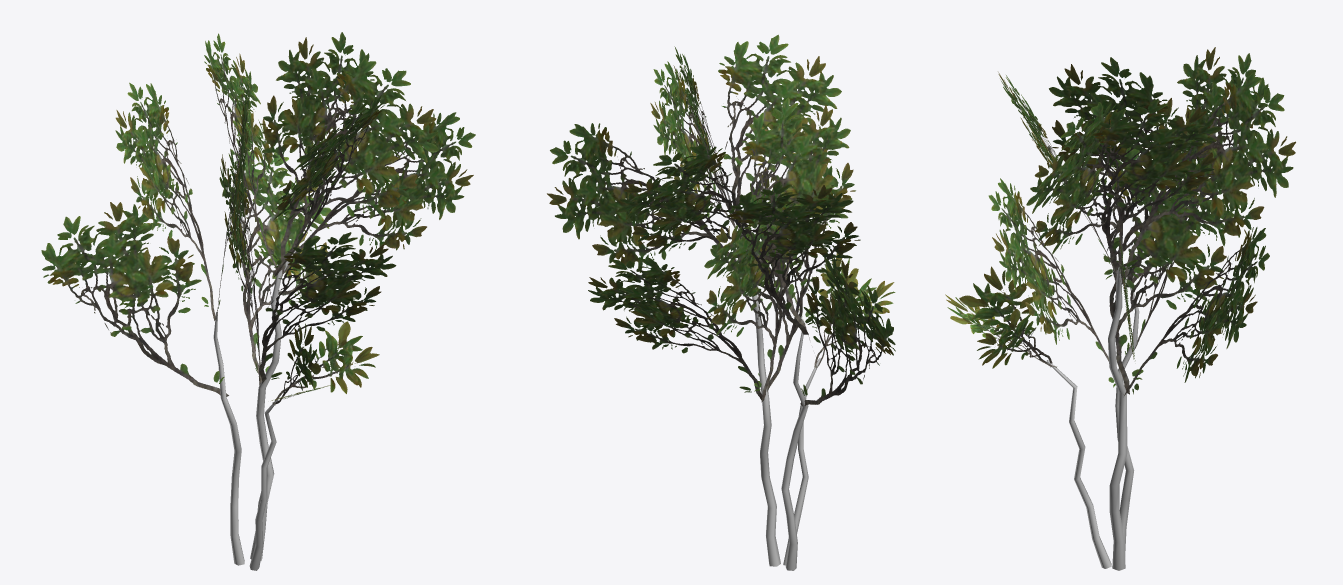
File: tree3.FBX
The picture shows the model from 3 angles, left to right: view 1: azimuth 30°, elevation 25°; view 2: azimuth 150°, elevation 25°; view 3: azimuth 270°, elevation 25°; orthographic projection. The views are drawn at different scales.
Parts seen in each view (by area): view 1: tree3; view 2: tree3; view 3: tree3.
Part boxes in pixels (<box>): tree3: <box>41,32,475,570</box>; tree3: <box>547,34,895,570</box>; tree3: <box>945,47,1295,570</box>.
Bounding box in the file's own units: 68.36 × 77.27 × 49.7.
